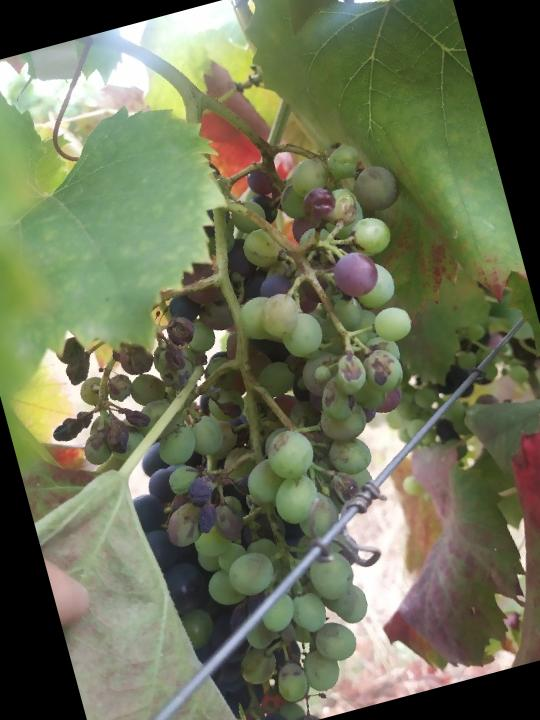grape: (0, 127, 527, 720)
